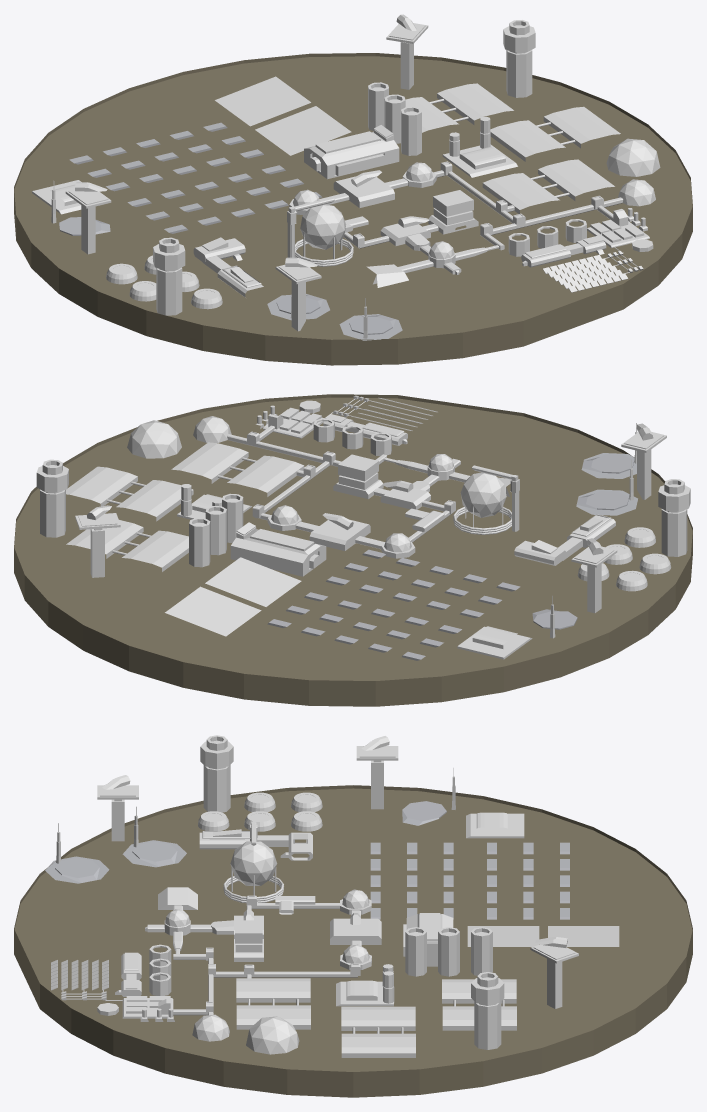
The model's file is full-scene-ground.glb.
The picture shows the model from 3 angles, top to bottom: view 1: azimuth 30°, elevation 25°; view 2: azimuth 150°, elevation 25°; view 3: azimuth 270°, elevation 25°; orthographic projection.
Visible parts, largest first — view 1: Perimeter, Cube.064, Cube.054, Cylinder.011, Plane.027, Plane.028, TowerLeft, TowerRight, SolarPanels, Cube.073, Cube.074, Cube.018 (+28 smaller); view 2: Perimeter, Cube.064, Cube.054, Cylinder.011, Plane.027, Plane.028, TowerLeft, TowerRight, Cube.018, Cube.019, Cube.074, OrbRightLarge (+29 smaller); view 3: Perimeter, Cube.064, Cylinder.011, TowerRight, TowerLeft, Cube.074, Cube.073, Cube.019, ScienceMain, OrbRightLarge, Cube.018, Plane.027 (+24 smaller).
Boxes of the visible parts, <box> form: Perimeter: <box>14,53,692,365</box>; Cube.064: <box>69,122,322,233</box>; Cube.054: <box>304,125,399,179</box>; Cylinder.011: <box>368,82,421,155</box>; Plane.027: <box>215,76,310,126</box>; Plane.028: <box>255,106,351,155</box>; TowerLeft: <box>153,237,185,315</box>; TowerRight: <box>503,20,535,97</box>; SolarPanels: <box>543,255,628,292</box>; Cube.073: <box>490,120,565,161</box>; Cube.074: <box>543,106,620,148</box>; Cube.018: <box>538,159,614,200</box>; Perimeter: <box>14,394,692,706</box>; Cube.064: <box>267,549,520,660</box>; Cube.054: <box>230,522,326,576</box>; Cylinder.011: <box>189,493,243,567</box>; Plane.027: <box>165,586,261,636</box>; Plane.028: <box>205,557,301,606</box>; TowerLeft: <box>658,479,690,556</box>; TowerRight: <box>36,459,68,537</box>; Cube.018: <box>171,442,248,483</box>; Cube.019: <box>227,455,304,496</box>; Cube.074: <box>66,466,137,506</box>; OrbRightLarge: <box>127,420,181,458</box>; Perimeter: <box>14,785,692,1097</box>; Cube.064: <box>370,842,569,919</box>; Cylinder.011: <box>405,927,492,976</box>; TowerRight: <box>471,972,504,1049</box>; TowerLeft: <box>200,735,233,812</box>; Cube.074: <box>341,1033,415,1057</box>; Cube.073: <box>341,1006,415,1030</box>; Cube.019: <box>236,978,310,1002</box>; ScienceMain: <box>230,841,277,885</box>; OrbRightLarge: <box>246,1016,299,1054</box>; Cube.018: <box>236,1005,310,1029</box>; Plane.027: <box>548,926,619,946</box>.
Bounding box in the file's own units: 134 × 19.98 × 134.
